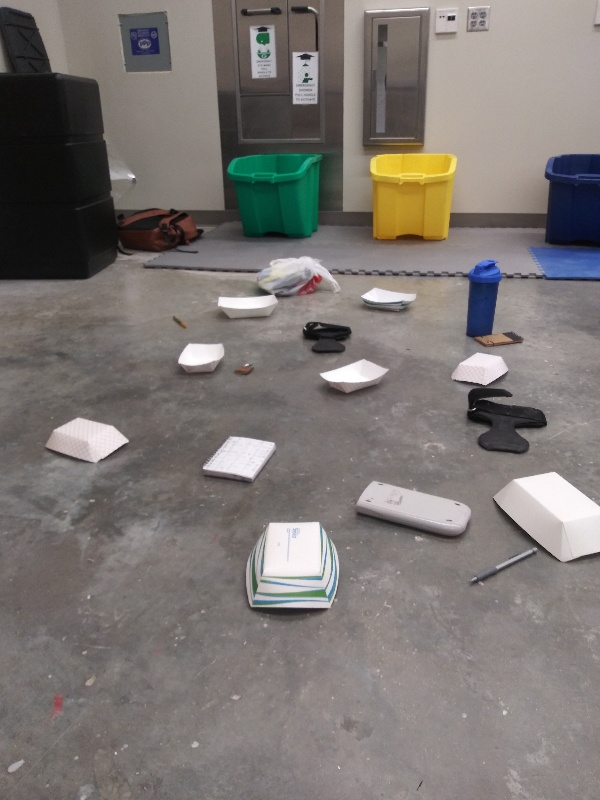plate: (484, 467, 600, 569), (243, 516, 348, 616), (42, 411, 136, 467), (316, 355, 395, 397), (445, 351, 514, 389), (357, 283, 419, 317), (174, 338, 228, 377), (211, 292, 285, 320)
